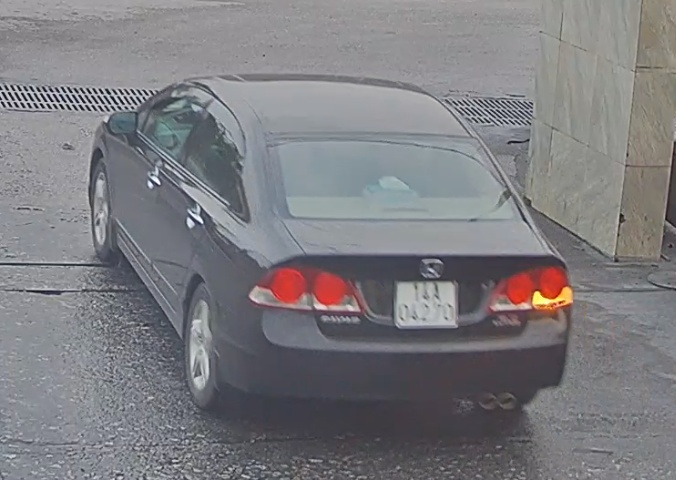vehicle plate: (388, 267, 460, 330)
